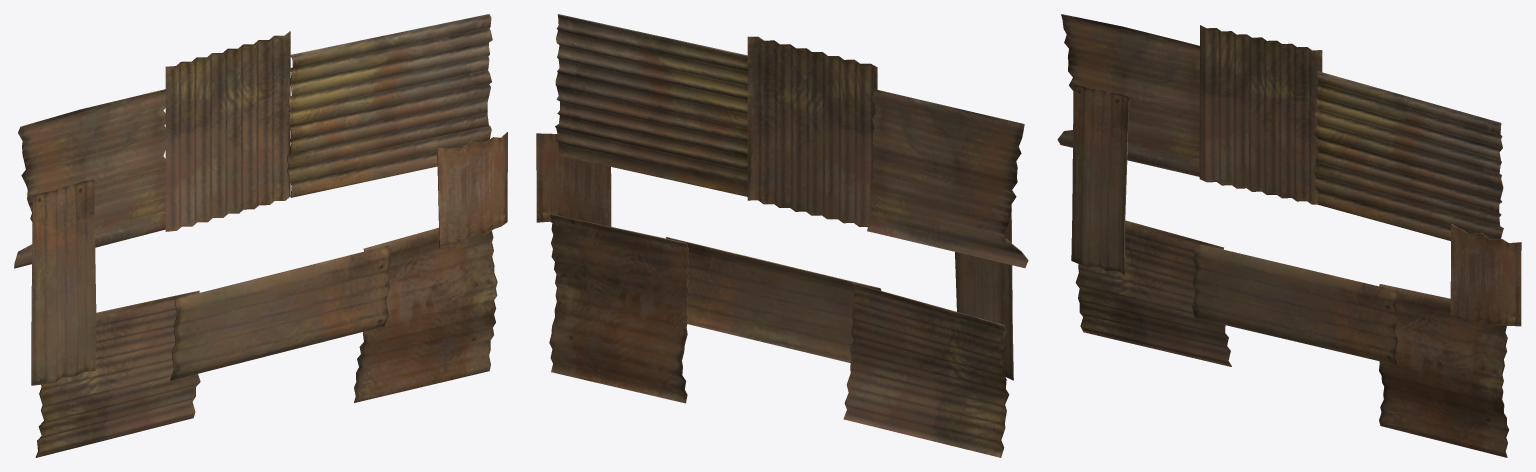
The model's file is horizontal_embrasure.gltf.
3 views of the same model, side by side, from view 1: azimuth 30°, elevation 25°; view 2: azimuth 150°, elevation 25°; view 3: azimuth 330°, elevation 25° (orthographic). The views are drawn at different scales.
Parts seen in each view (by area): view 1: Collection.smd; view 2: Collection.smd; view 3: Collection.smd.
Boxes of the visible parts, box(x1,y1,x2,y2) form: Collection.smd: box(14, 14, 507, 457); Collection.smd: box(536, 14, 1028, 457); Collection.smd: box(1057, 14, 1521, 457).
Bounding box in the file's own units: 2.53 × 1.9 × 0.1155.
1 material, 1 textured.
